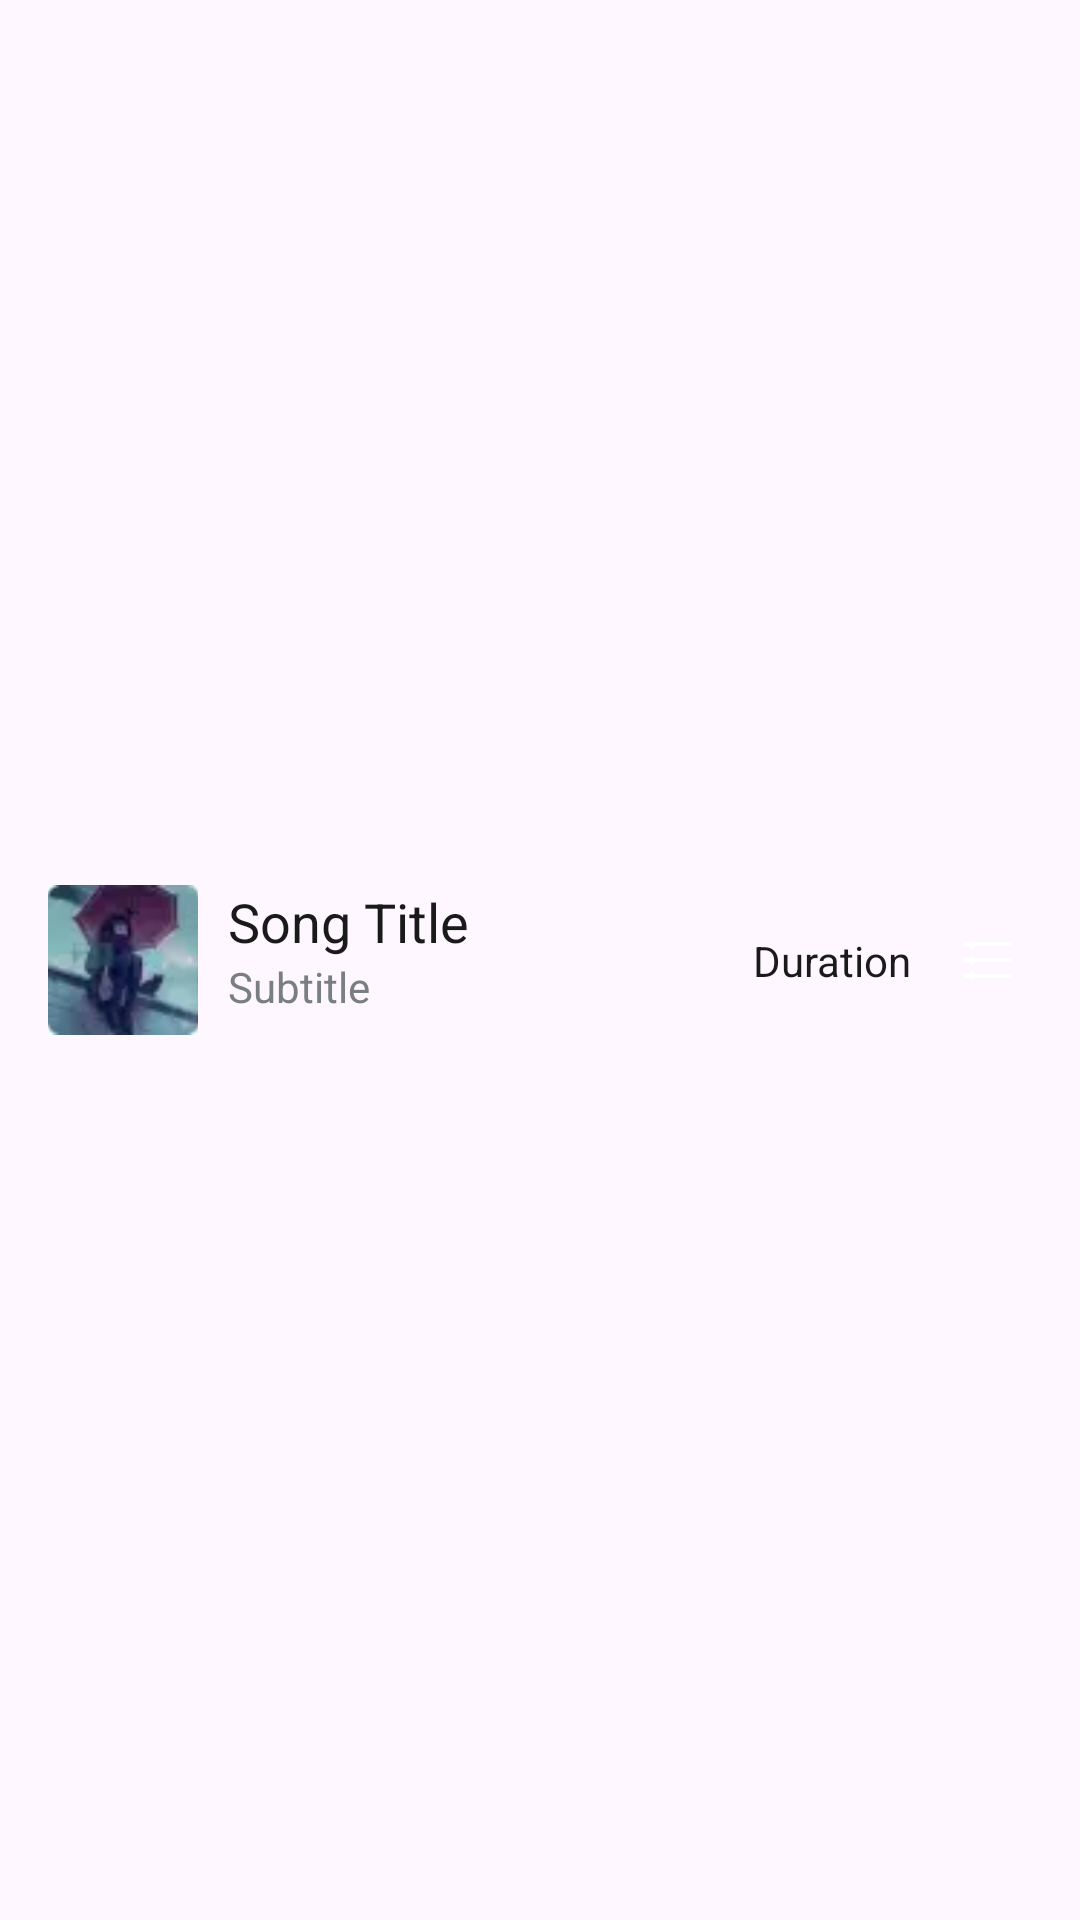

Point at icon controls on the screen. Image size 1080 x 1920, points as [x,y].
rain: [123,960]
